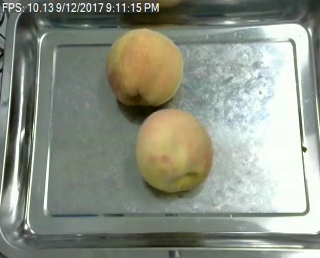Peach: (135, 106, 214, 190), (106, 27, 184, 107)
